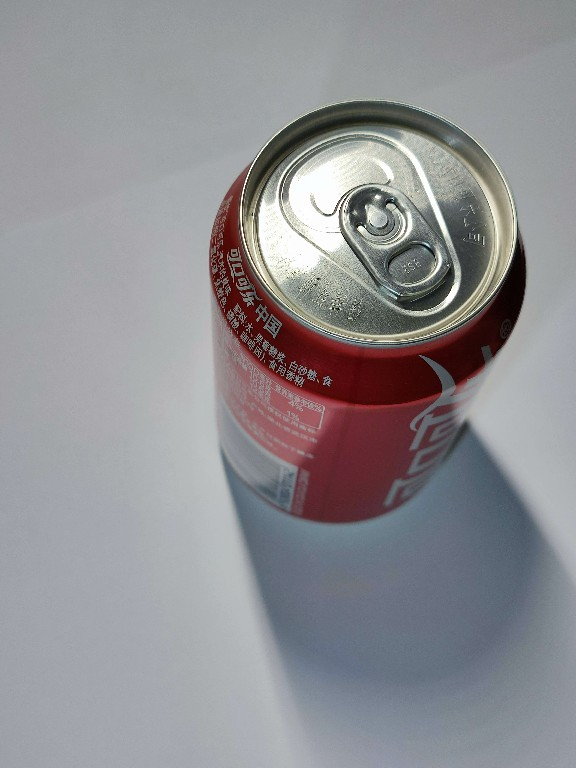can: (202, 98, 531, 529)
